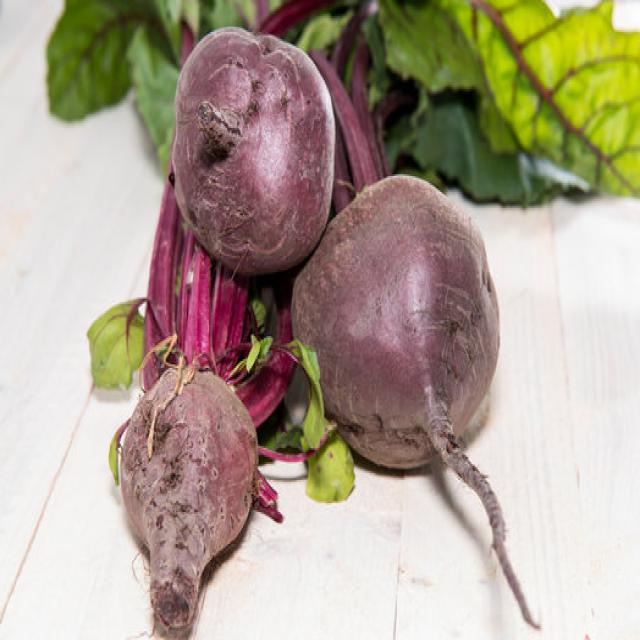Beetroot: (288, 171, 541, 629), (106, 364, 278, 598), (176, 26, 327, 260)
Spinach: (44, 0, 639, 635)
